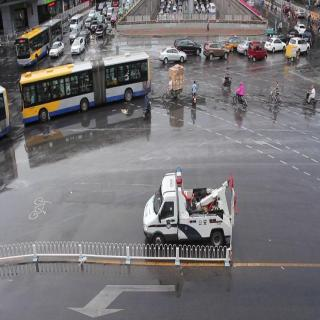BigCar: (17, 50, 151, 121), (14, 15, 63, 66)
Car: (137, 156, 258, 256), (153, 44, 189, 70), (203, 34, 229, 65), (171, 34, 200, 58), (219, 31, 242, 57), (287, 37, 313, 60), (244, 40, 266, 65), (66, 5, 85, 31), (46, 34, 63, 62), (290, 18, 310, 36), (266, 36, 284, 54), (70, 32, 83, 55), (96, 23, 106, 41)
